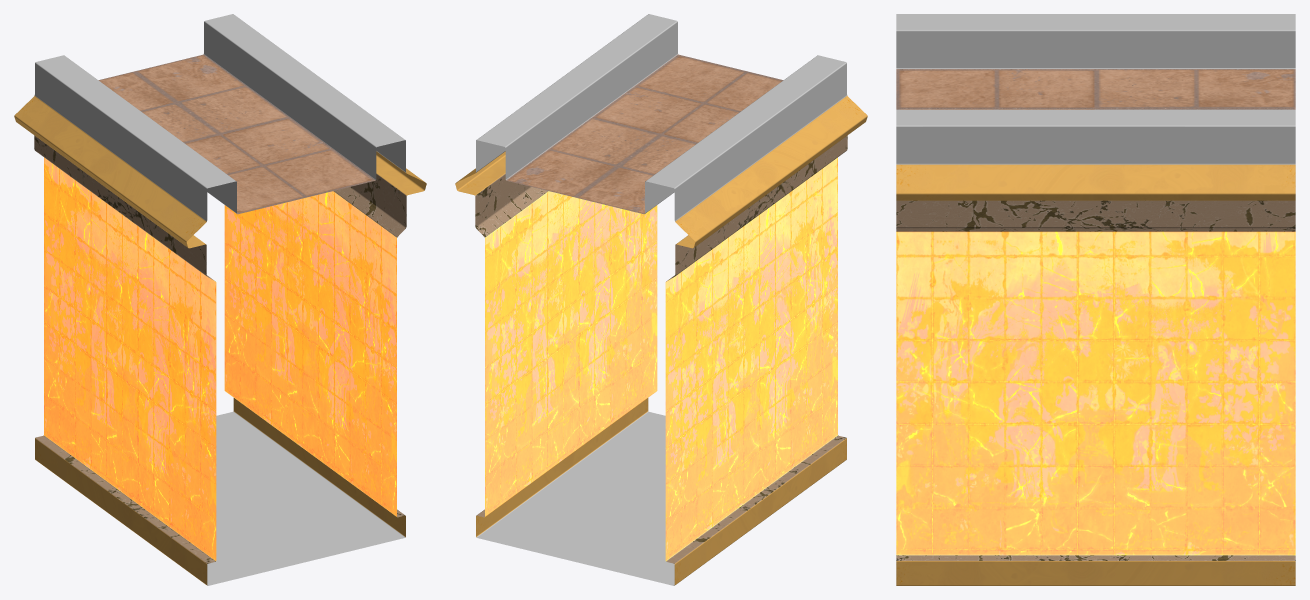
File: SM_Floor_Beam_02_Middle.fbx
The picture shows the model from 3 angles, left to right: view 1: azimuth 30°, elevation 25°; view 2: azimuth 150°, elevation 25°; view 3: azimuth 270°, elevation 25°; orthographic projection. The views are drawn at different scales.
Visible parts, largest first — view 1: SM_Floor_Beam_02_Middle_LOD0; view 2: SM_Floor_Beam_02_Middle_LOD0; view 3: SM_Floor_Beam_02_Middle_LOD0.
Part boxes in pixels (box(x1,y1,x2,y2)): SM_Floor_Beam_02_Middle_LOD0: box(14, 14, 426, 585); SM_Floor_Beam_02_Middle_LOD0: box(455, 14, 867, 585); SM_Floor_Beam_02_Middle_LOD0: box(896, 14, 1295, 585).
Bounding box in the file's own units: 241 × 300 × 382.
